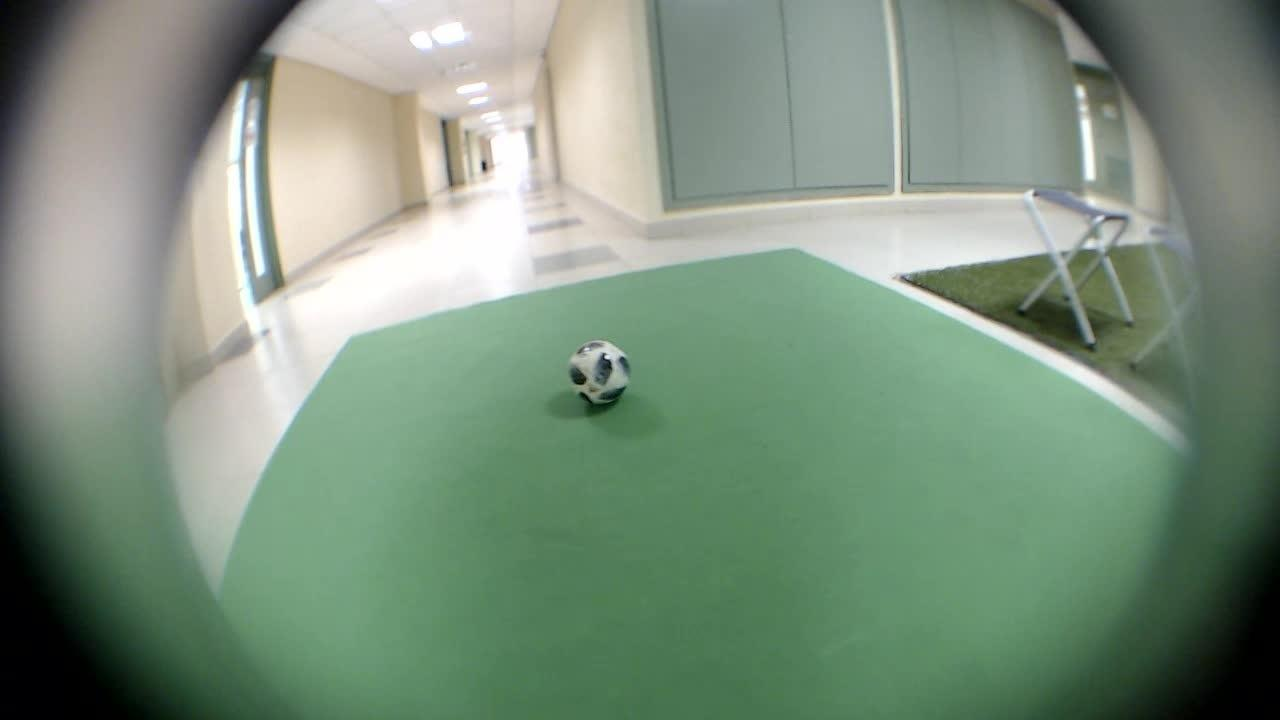ball: (557, 330, 641, 412)
